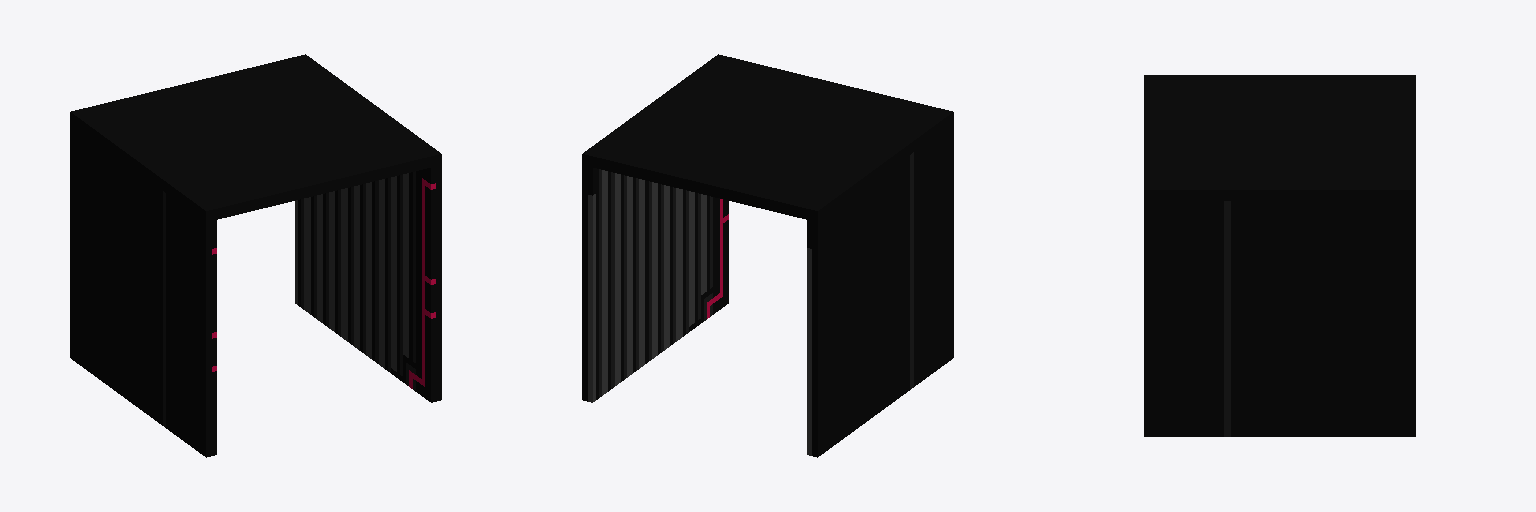
3 views of the same model, side by side, from view 1: azimuth 30°, elevation 25°; view 2: azimuth 150°, elevation 25°; view 3: azimuth 270°, elevation 25° (orthographic).
Parts seen in each view (by area): view 1: object 1; view 2: object 1; view 3: object 1.
Part boxes in pixels (x1,y1,x2,y2): object 1: (70, 54, 441, 457); object 1: (582, 54, 953, 457); object 1: (1144, 75, 1415, 436).
Size of the model in its own units: 4.4 by 4.4 by 4.4.
Materials: 1 (1 with a texture image).